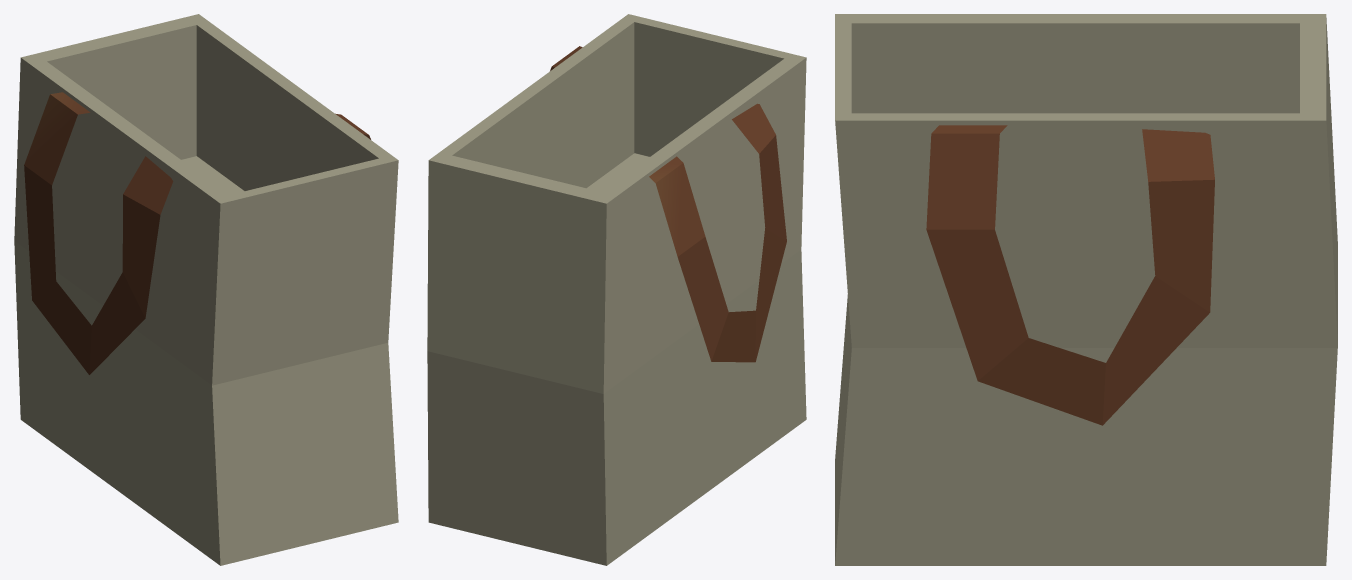
The model's file is Empty Bag.fbx.
The picture shows the model from 3 angles, left to right: view 1: azimuth 30°, elevation 25°; view 2: azimuth 150°, elevation 25°; view 3: azimuth 270°, elevation 25°; orthographic projection. The views are drawn at different scales.
Visible parts, largest first — view 1: Cube; view 2: Cube; view 3: Cube.
Boxes of the visible parts, x1=… form: Cube: x1=14, y1=14, x2=398, y2=565; Cube: x1=427, y1=14, x2=806, y2=565; Cube: x1=835, y1=14, x2=1337, y2=565.
Size of the model in its own units: 157 by 200 by 205.
